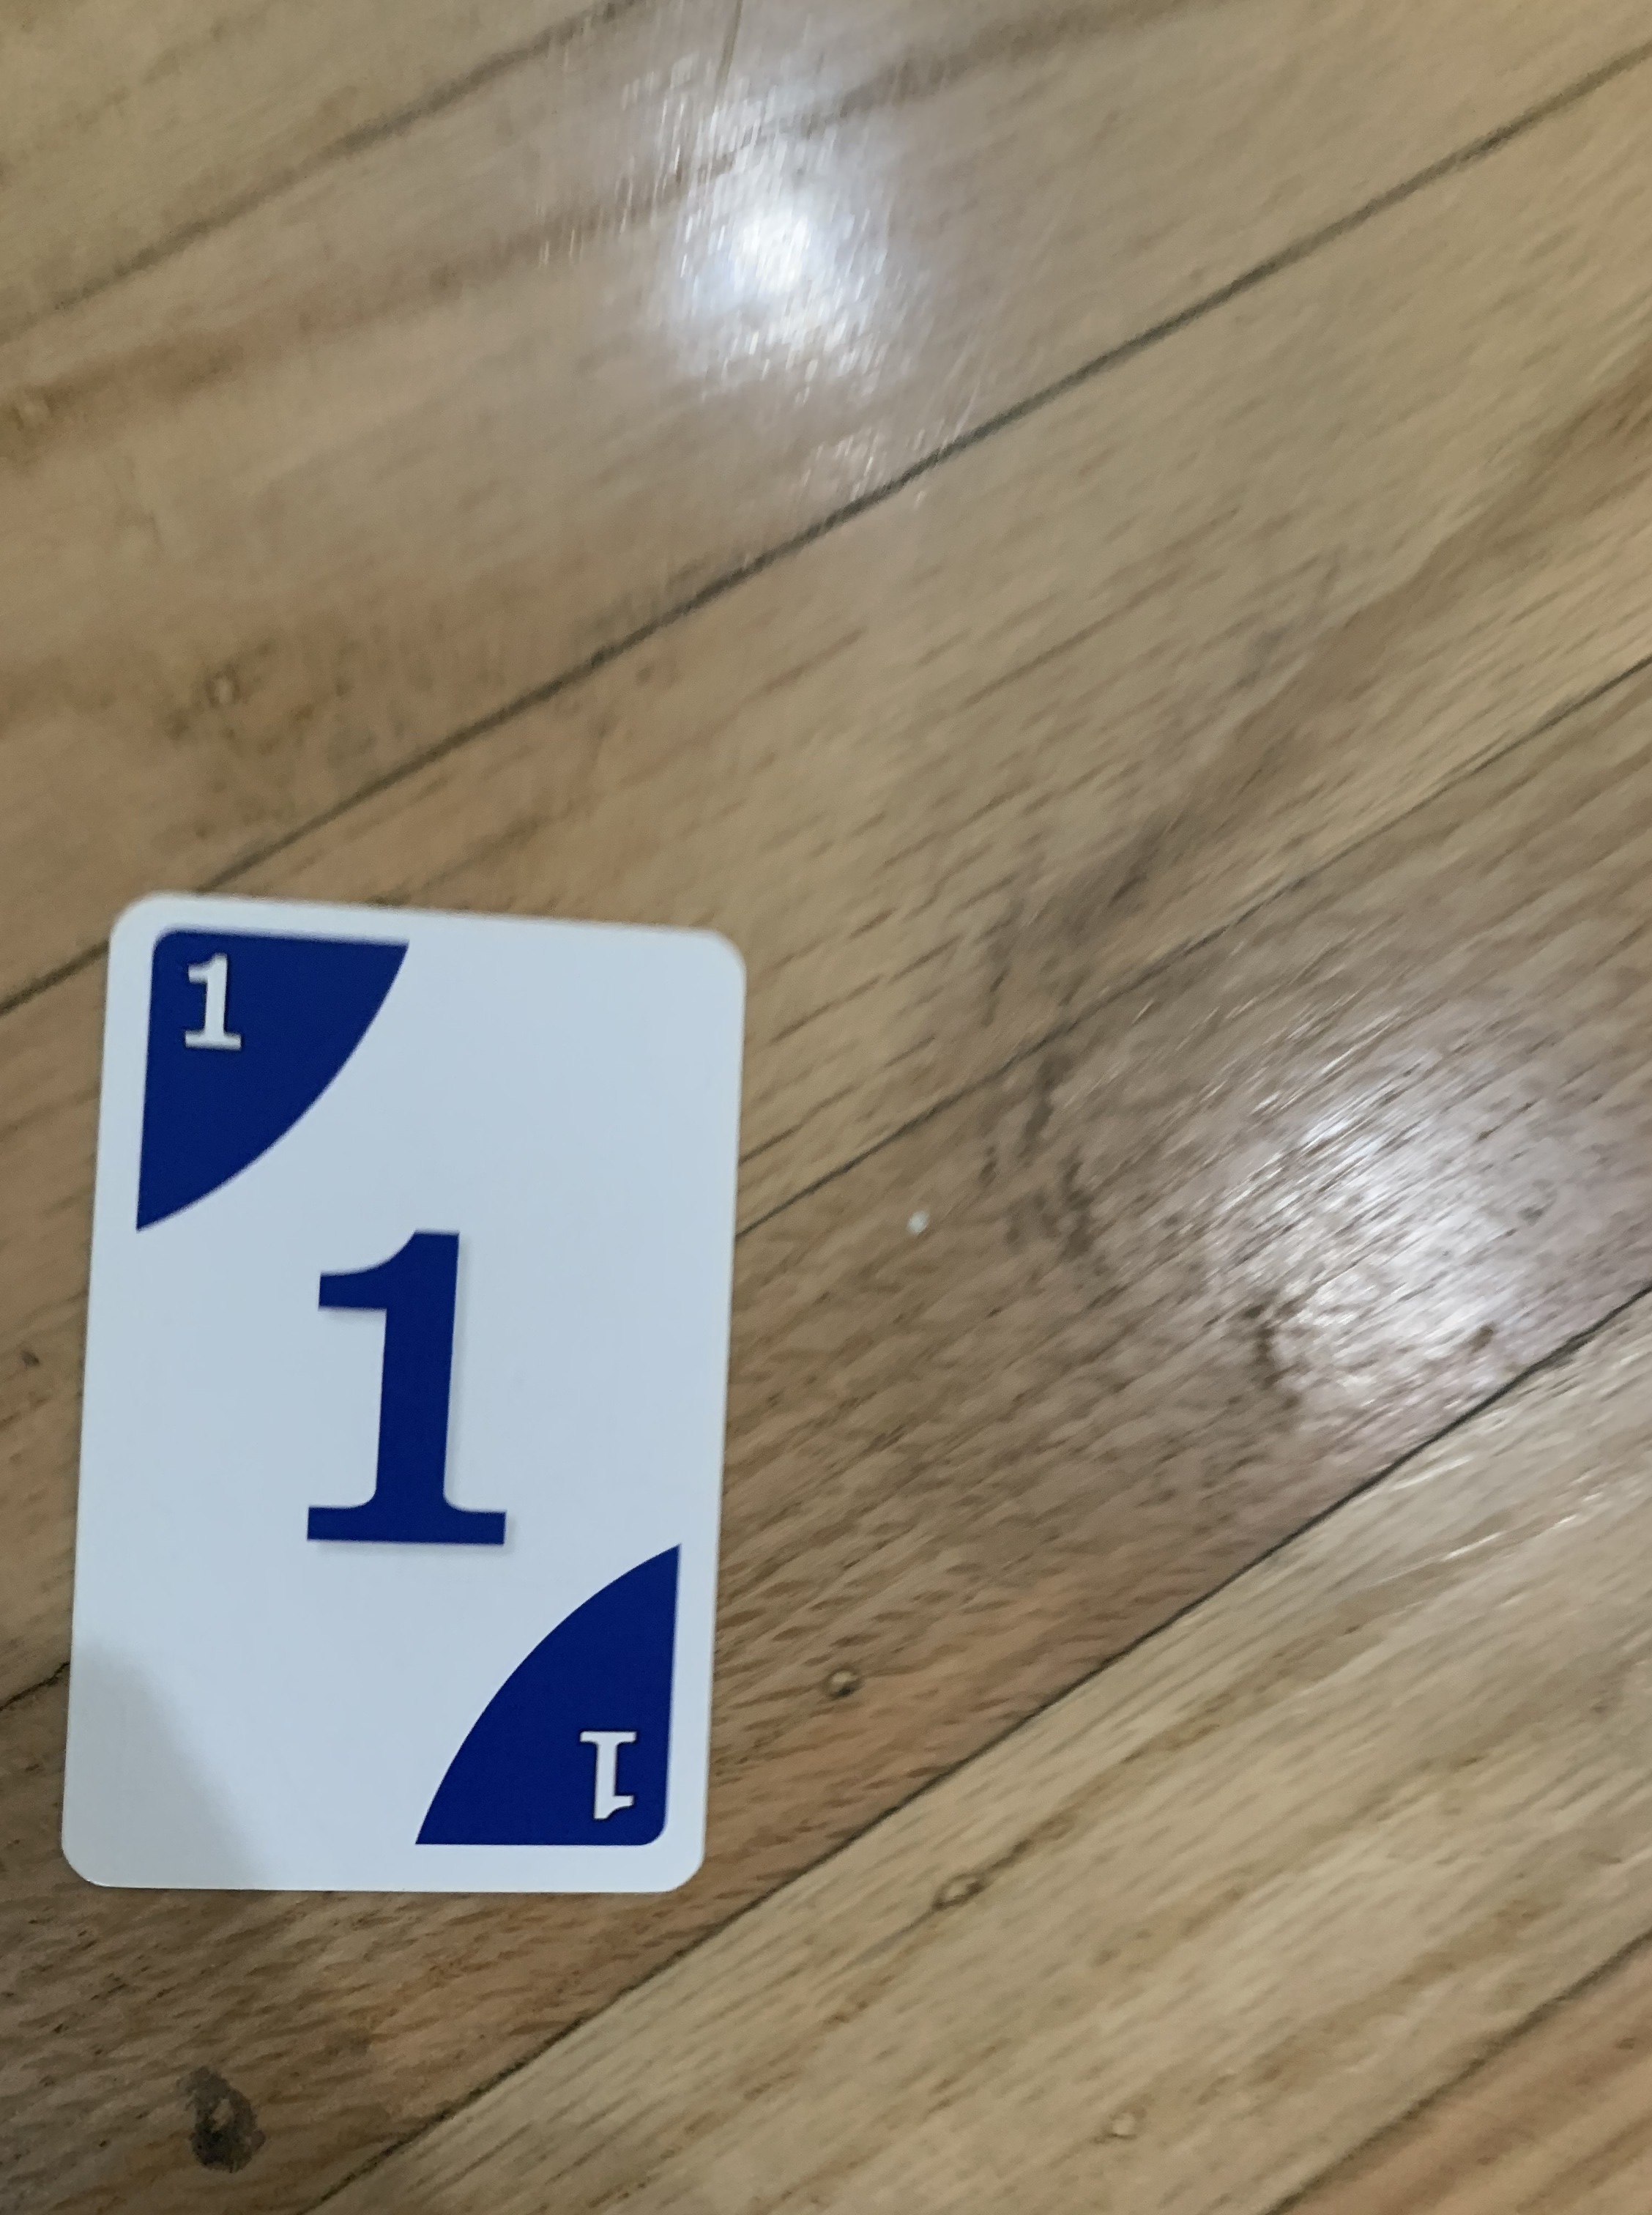one: (43, 882, 750, 1915)
